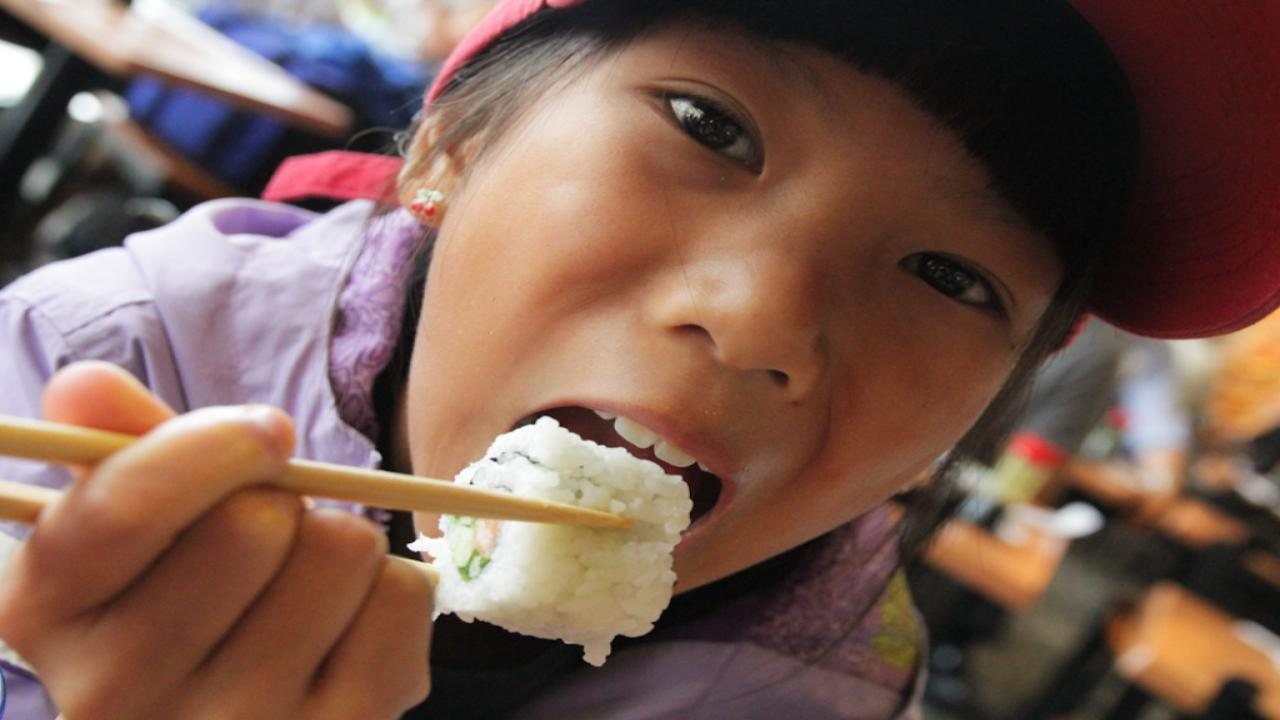chopstick: (0, 419, 639, 534)
